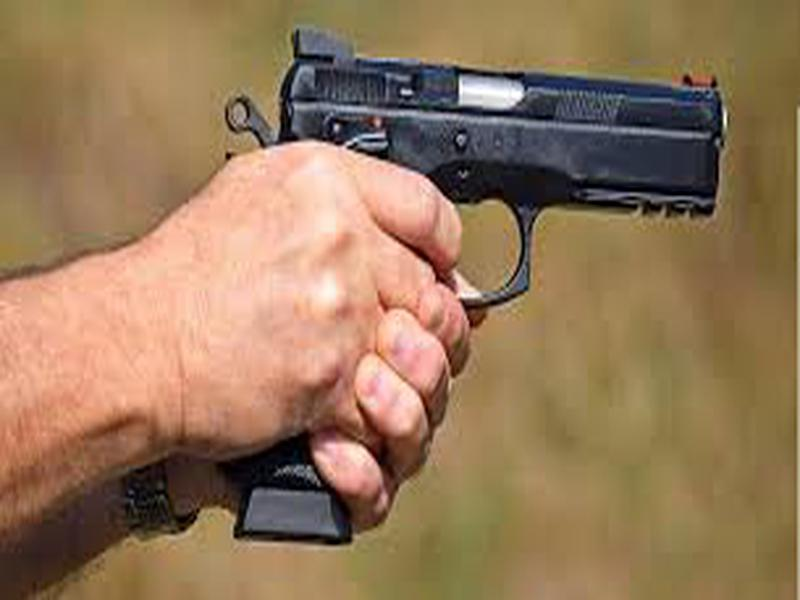gun: (106, 23, 741, 561)
